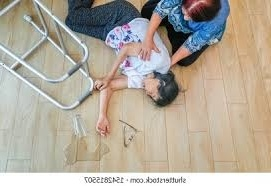fall: (63, 0, 177, 135)
not_fallen: (142, 1, 232, 62)
